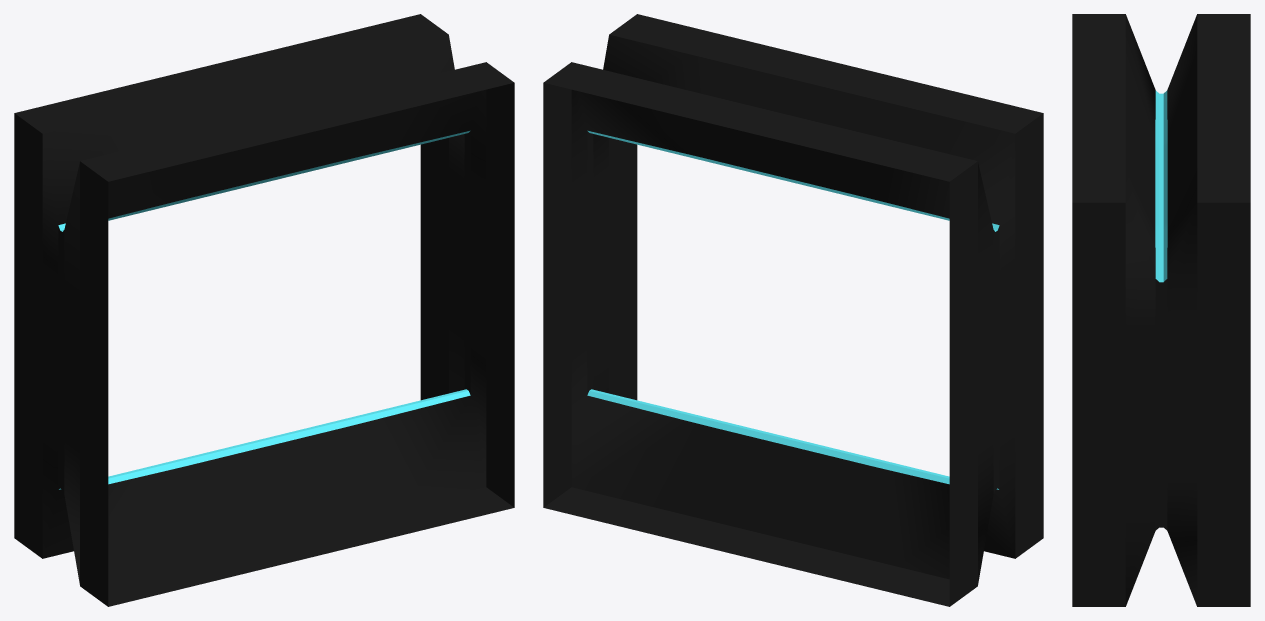
Rendered from doublebar.FBX.
The picture shows the model from 3 angles, left to right: view 1: azimuth 30°, elevation 25°; view 2: azimuth 150°, elevation 25°; view 3: azimuth 270°, elevation 25°; orthographic projection. The views are drawn at different scales.
Parts seen in each view (by area): view 1: doublebar; view 2: doublebar; view 3: doublebar.
Part boxes in pixels (<box>): doublebar: <box>14,14,514,606</box>; doublebar: <box>543,14,1043,606</box>; doublebar: <box>1072,14,1250,606</box>.
Size of the model in its own units: 25 by 25 by 10.
